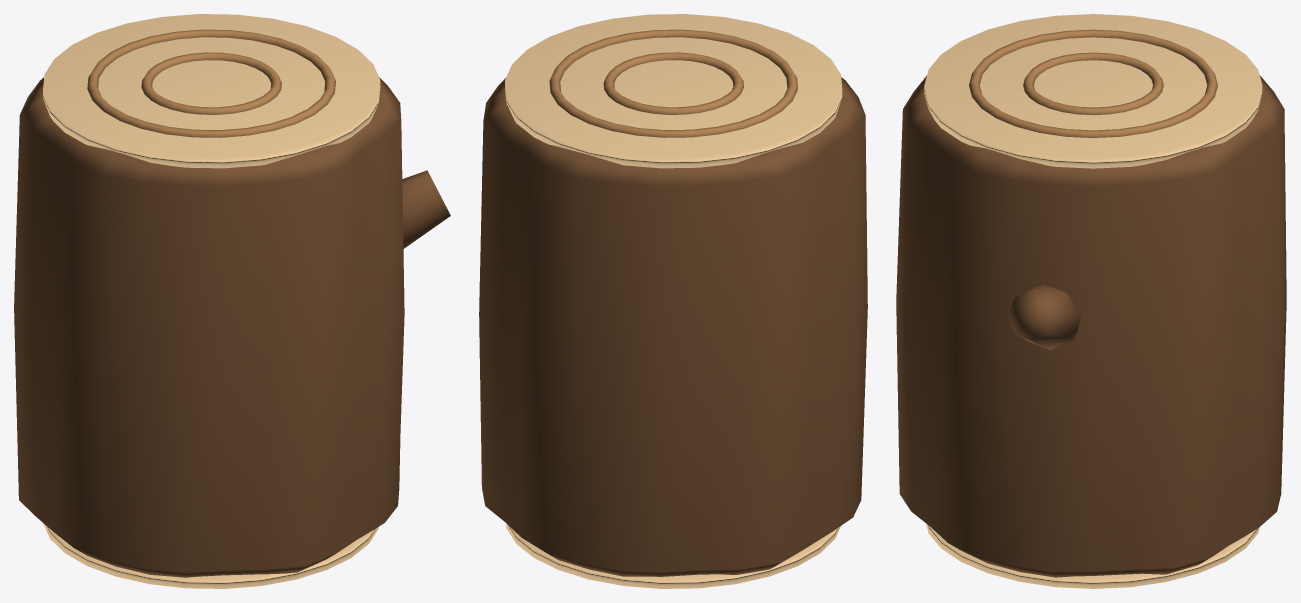
Rendered from LogJamLog.obj.
3 renders of one model, left to right at view 1: azimuth 30°, elevation 25°; view 2: azimuth 150°, elevation 25°; view 3: azimuth 270°, elevation 25°, orthographic.
Visible parts, largest first — view 1: Bark, Wood, Rings; view 2: Bark, Wood, Rings; view 3: Bark, Wood, Rings.
Part boxes in pixels (x1=…): Bark: x1=14, y1=77, x2=450, y2=577; Wood: x1=43, y1=14, x2=380, y2=588; Rings: x1=87, y1=29, x2=335, y2=137; Bark: x1=479, y1=77, x2=867, y2=576; Wood: x1=505, y1=14, x2=842, y2=588; Rings: x1=549, y1=29, x2=797, y2=137; Bark: x1=896, y1=75, x2=1286, y2=577; Wood: x1=924, y1=14, x2=1262, y2=588; Rings: x1=969, y1=29, x2=1217, y2=137.
Bounding box in the file's own units: 1.97 × 2.24 × 1.8.
